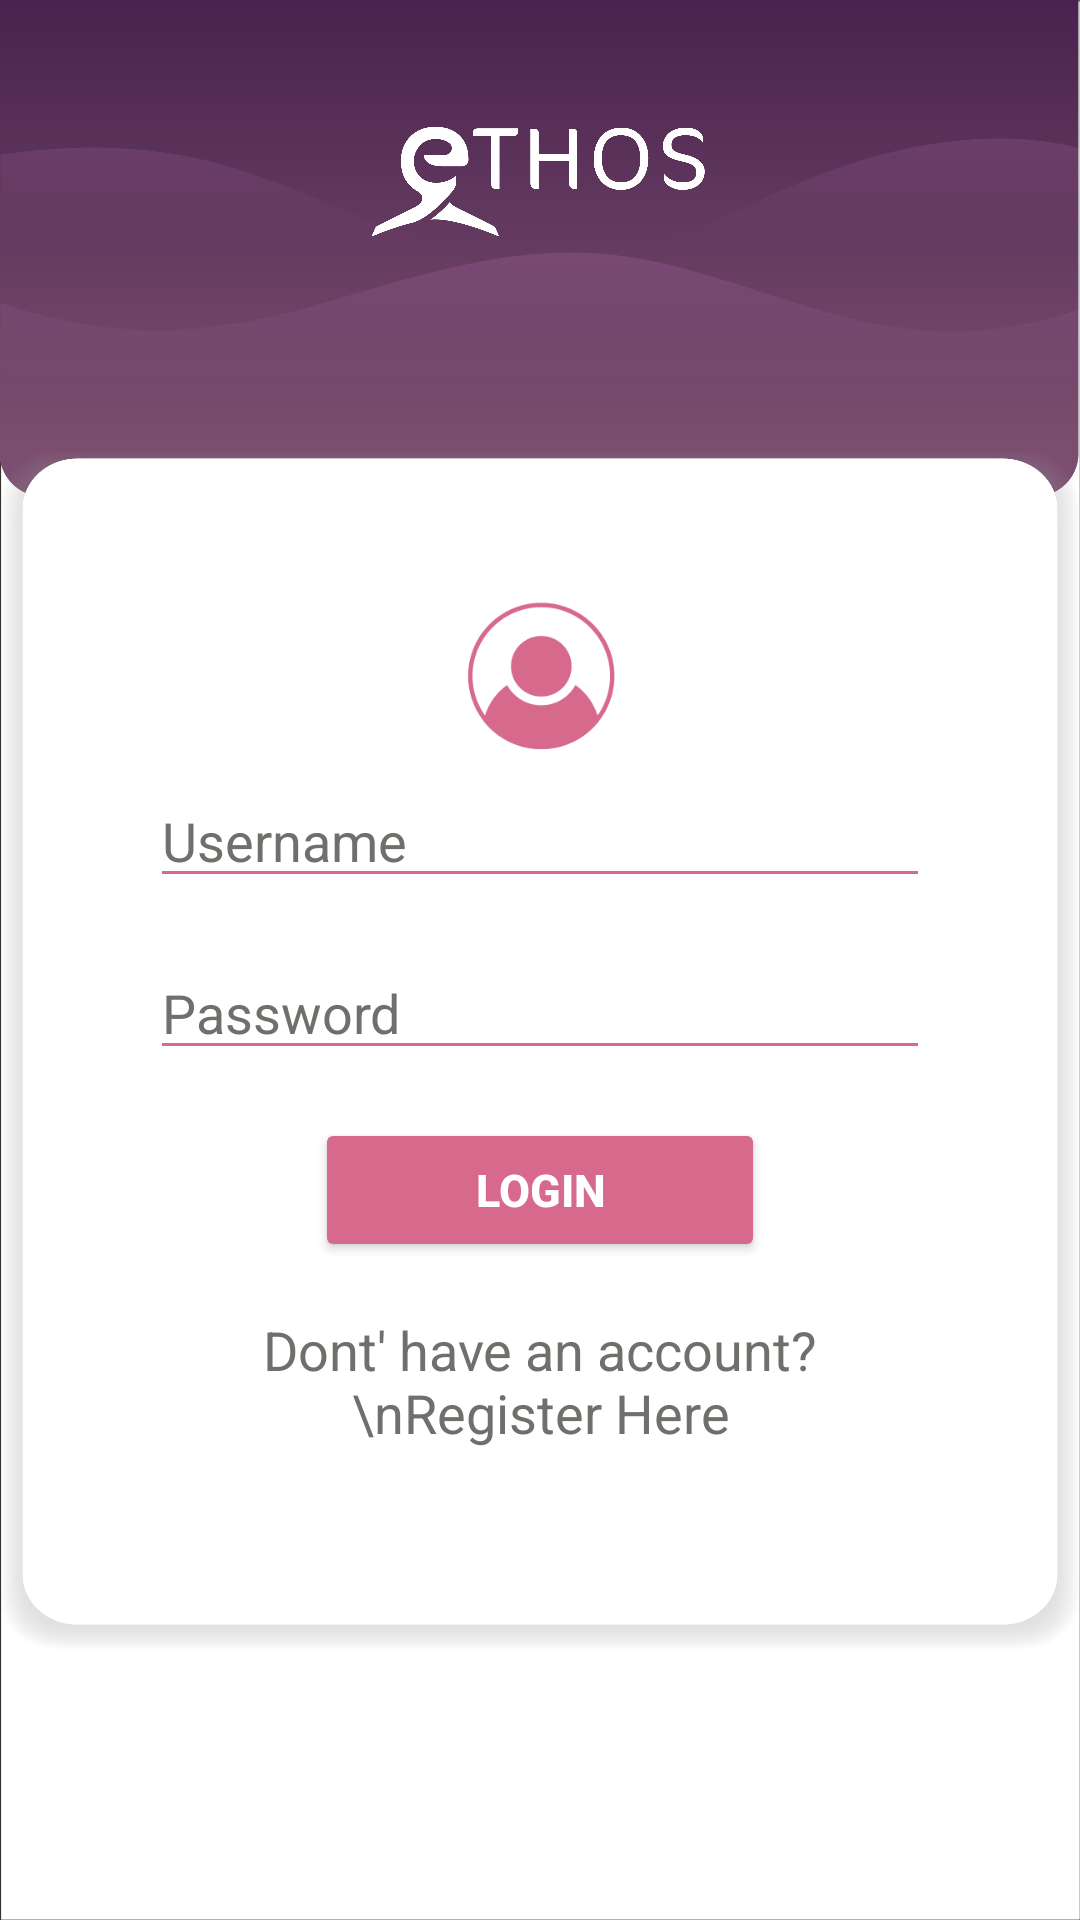

Icon bounding boxes for this 1080x1920 phone screenshot, format (x1,y1,x2,y2):
profile: (468,602,615,749)
